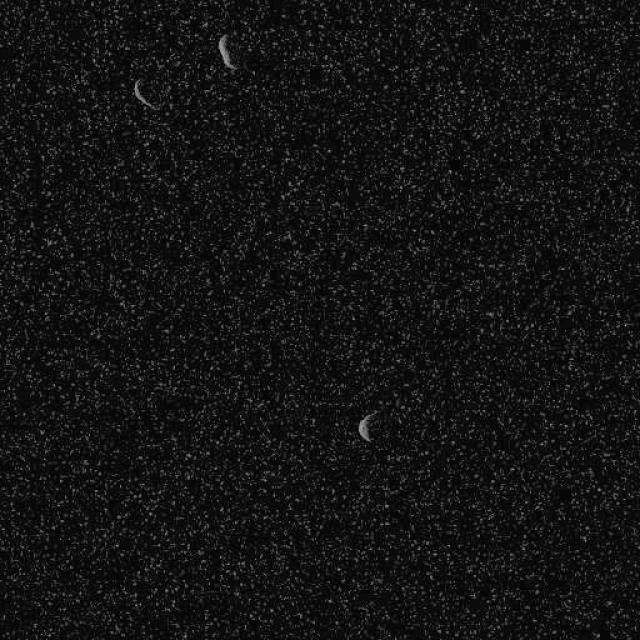D2: (216, 32, 238, 70), (356, 408, 380, 442), (131, 76, 154, 109)
